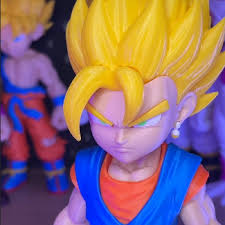3d print: (56, 0, 224, 224), (1, 0, 68, 192)
